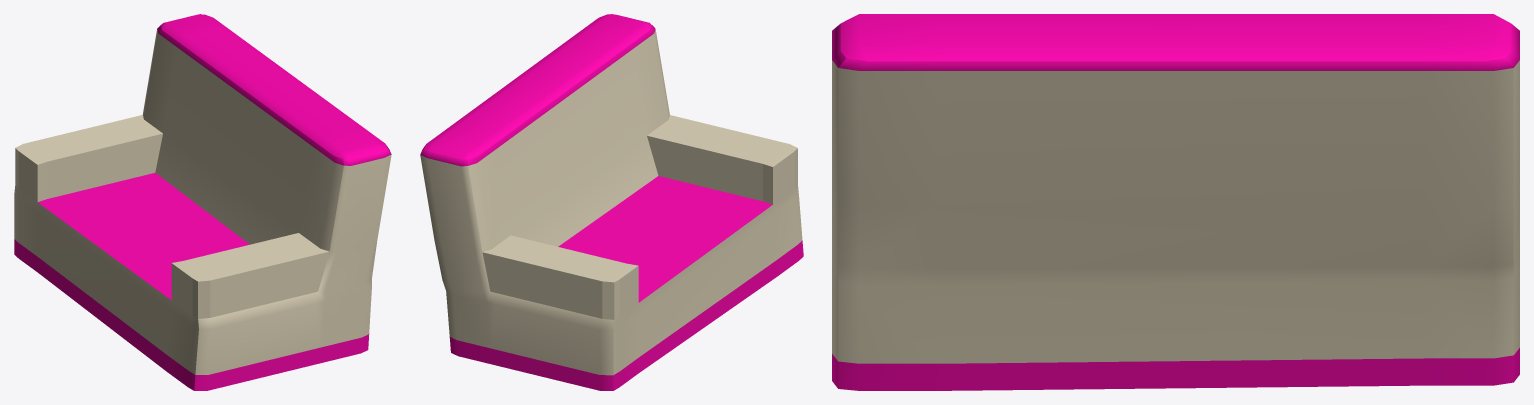
File: couch.fbx
3 views of the same model, side by side, from view 1: azimuth 30°, elevation 25°; view 2: azimuth 150°, elevation 25°; view 3: azimuth 270°, elevation 25° (orthographic). The views are drawn at different scales.
Visible parts, largest first — view 1: pCube9; view 2: pCube9; view 3: pCube9.
Part boxes in pixels (x1,y1,x2,y2): pCube9: (14, 14, 391, 390); pCube9: (420, 14, 803, 390); pCube9: (832, 14, 1519, 390).
Size of the model in its own units: 3.18 by 3.02 by 5.26.
